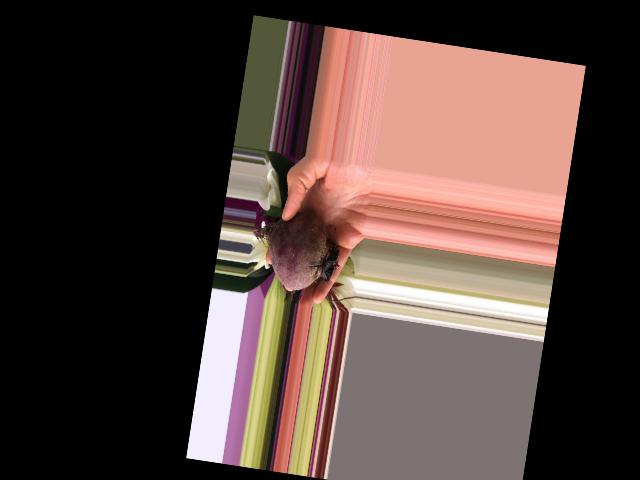beet: (245, 204, 347, 297)
